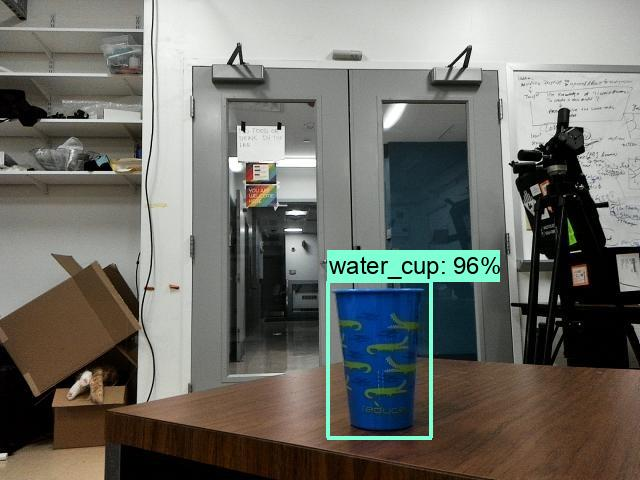water_cup: (325, 278, 429, 435)
